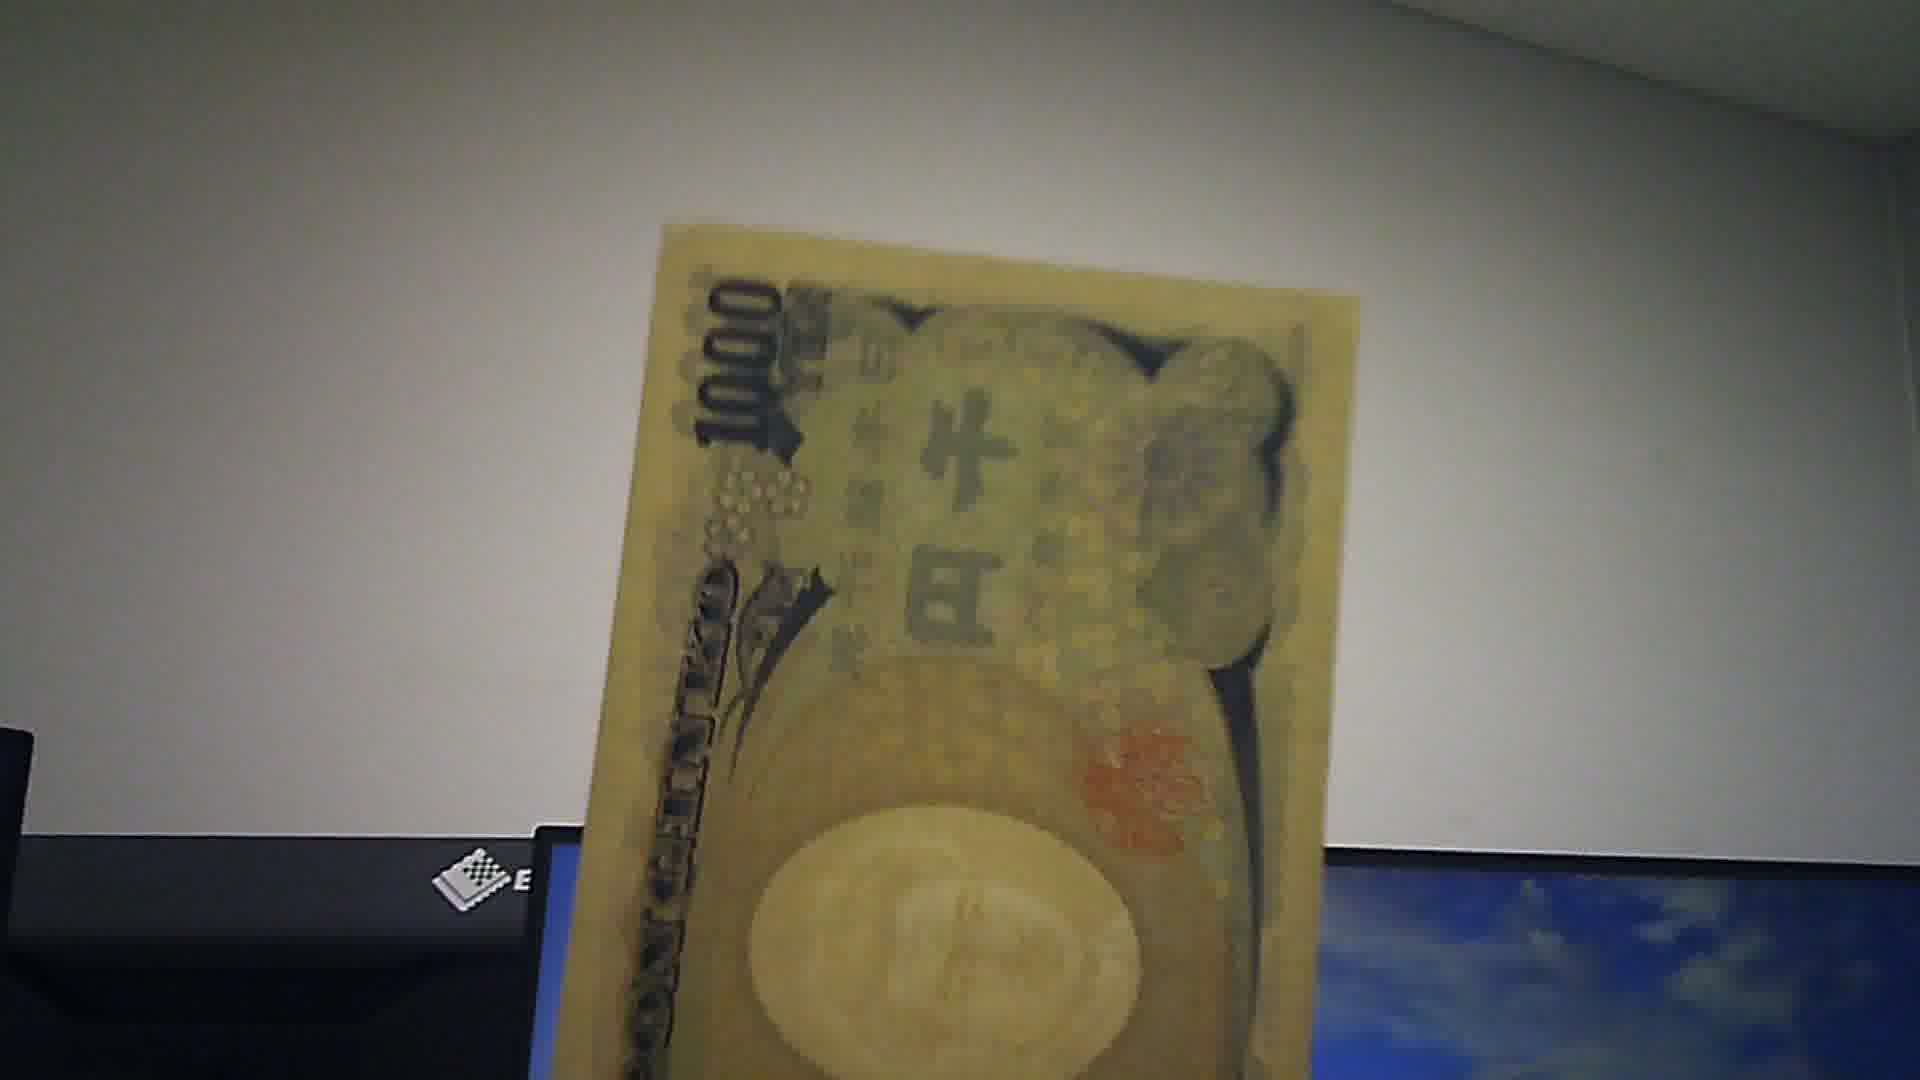1,000 Yen: (541, 210, 1321, 1079)
